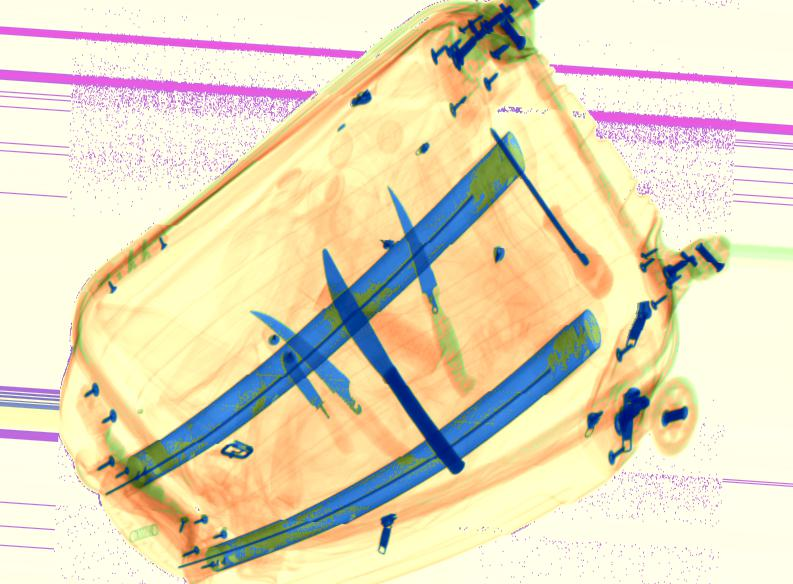Knife: (321, 245, 465, 477), (386, 185, 476, 397), (248, 309, 371, 428), (280, 350, 354, 452)
